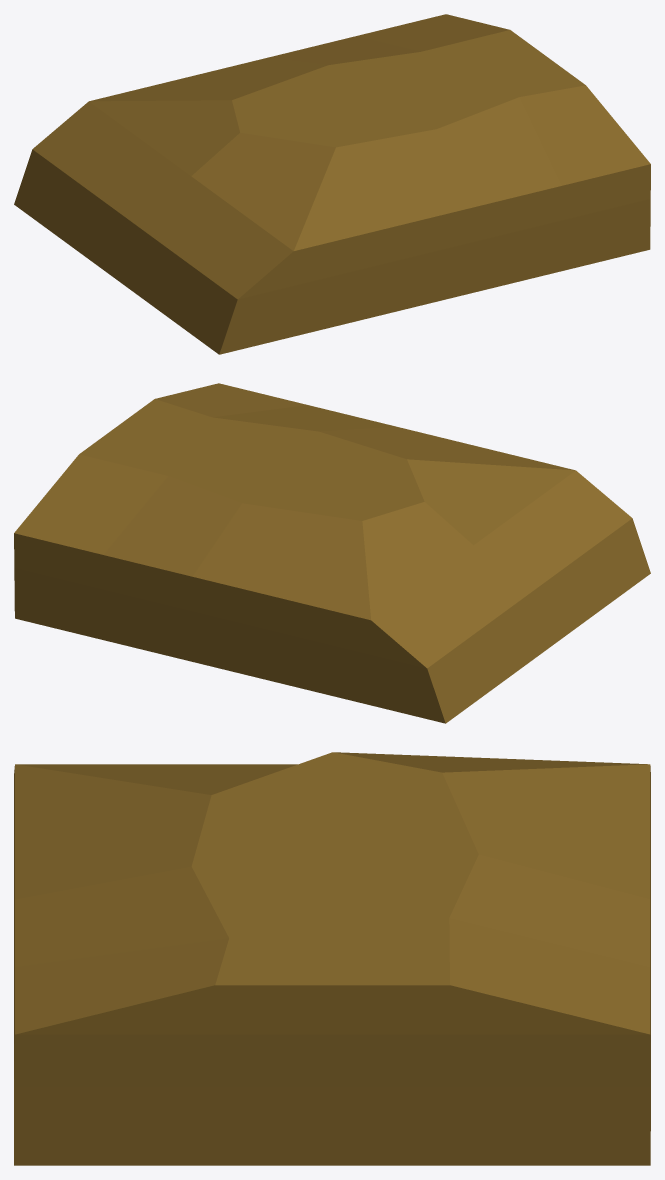
File: buried_bed5.fbx
The picture shows the model from 3 angles, top to bottom: view 1: azimuth 30°, elevation 25°; view 2: azimuth 150°, elevation 25°; view 3: azimuth 270°, elevation 25°; orthographic projection. The views are drawn at different scales.
Parts seen in each view (by area): view 1: Куб.007; view 2: Куб.007; view 3: Куб.007.
Boxes of the visible parts, x1,y1,x2,y2 form: Куб.007: [14, 14, 650, 354]; Куб.007: [14, 383, 650, 723]; Куб.007: [14, 752, 650, 1165].
Bounding box in the file's own units: 85 × 21.96 × 70.
